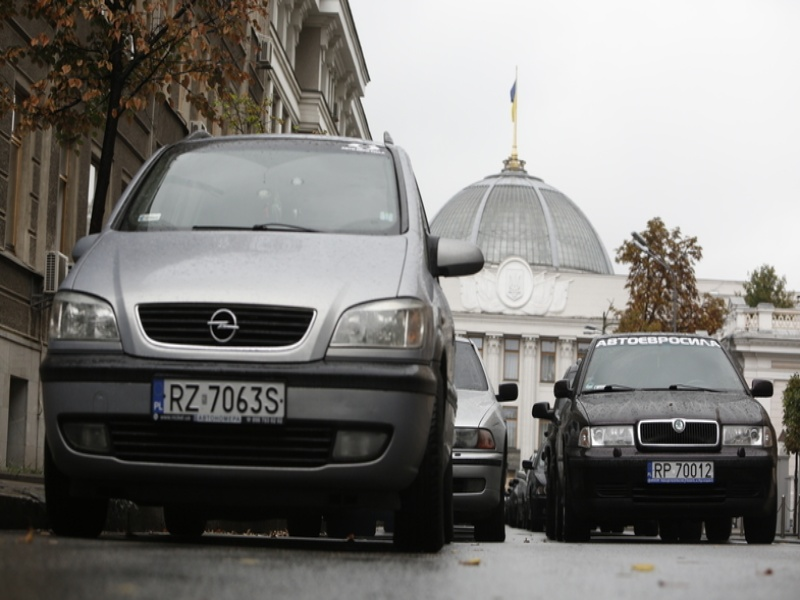car: (42, 131, 485, 548), (554, 334, 778, 547), (454, 335, 517, 540)
plate: (149, 377, 286, 424), (648, 462, 712, 480)
